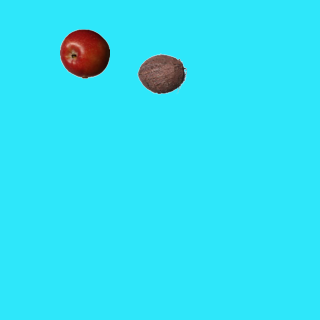Apple Braeburn: (59, 28, 109, 78)
Cocos: (136, 48, 186, 98)
